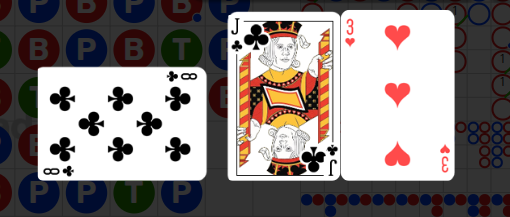3H: (438, 141, 450, 173)
8C: (164, 69, 198, 83), (41, 163, 75, 176)
